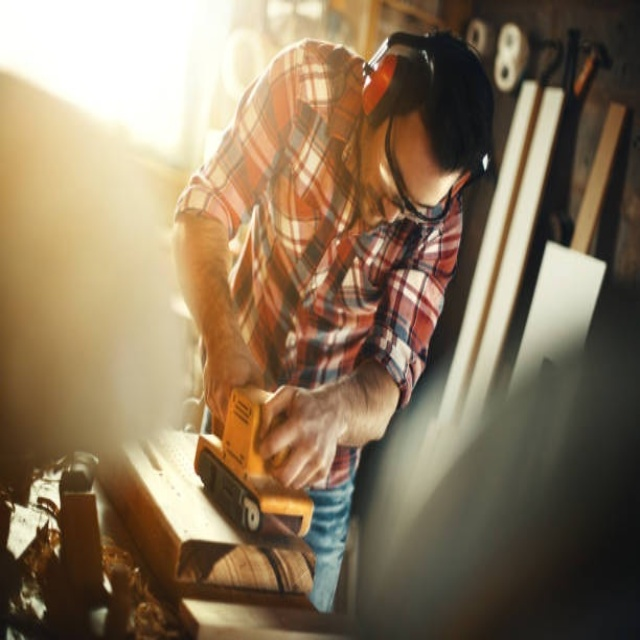Gafas: (385, 116, 488, 228)
Sin_guantes: (255, 374, 367, 489), (202, 346, 273, 443)
Sin_mascara: (356, 173, 390, 234)
